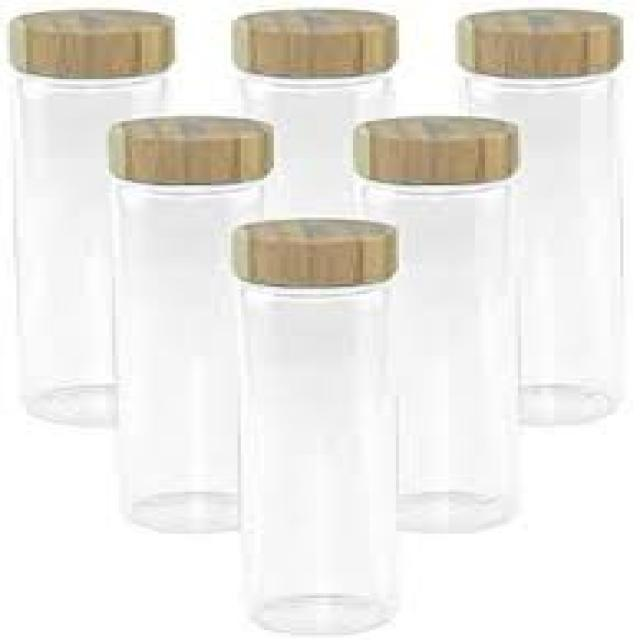Glass: (10, 78, 174, 426), (112, 187, 274, 532), (357, 184, 514, 534), (468, 78, 626, 424), (237, 292, 388, 634)
